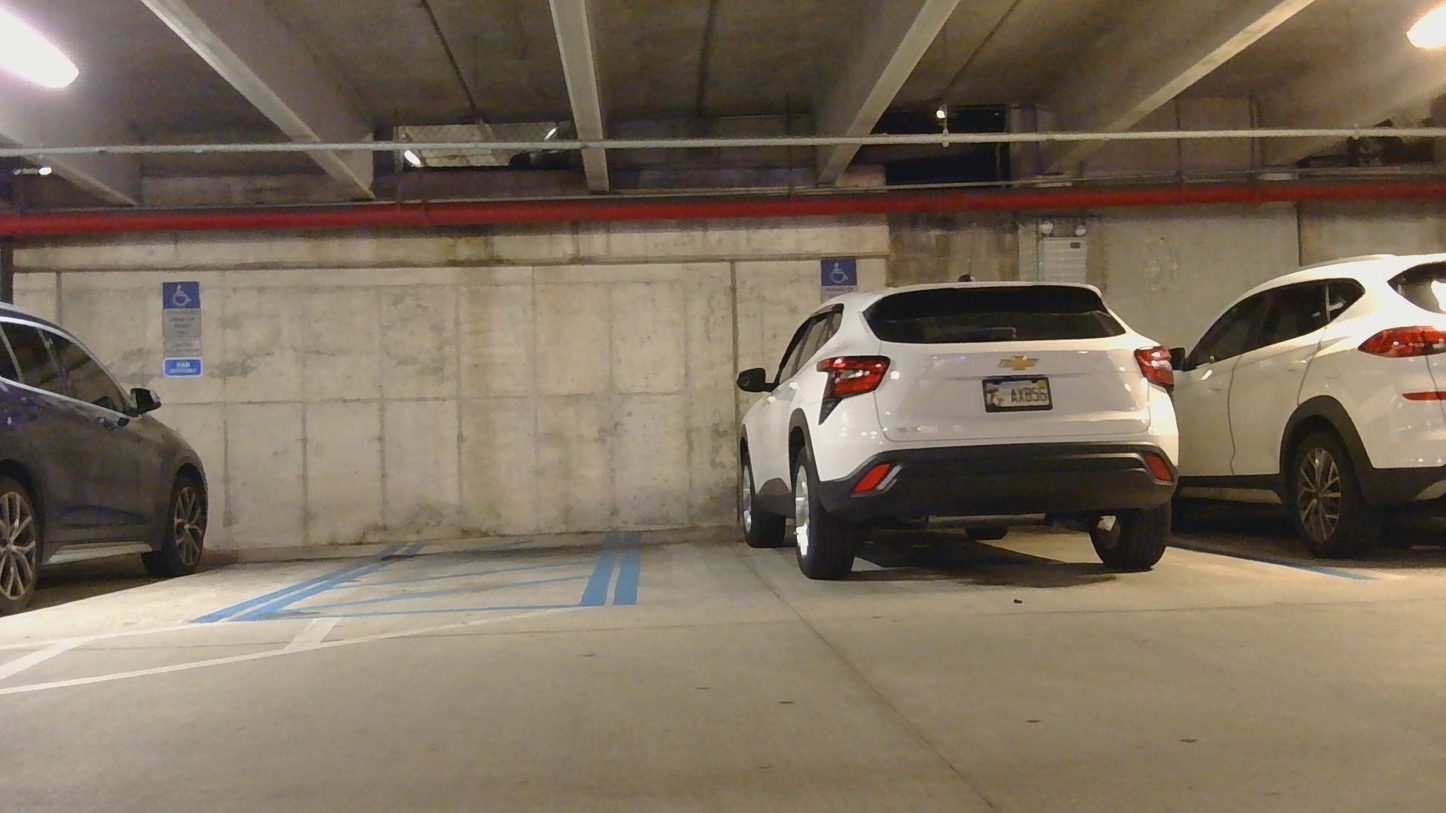occupied_spot: (712, 275, 1189, 600), (1169, 251, 1445, 580), (0, 295, 235, 630)
